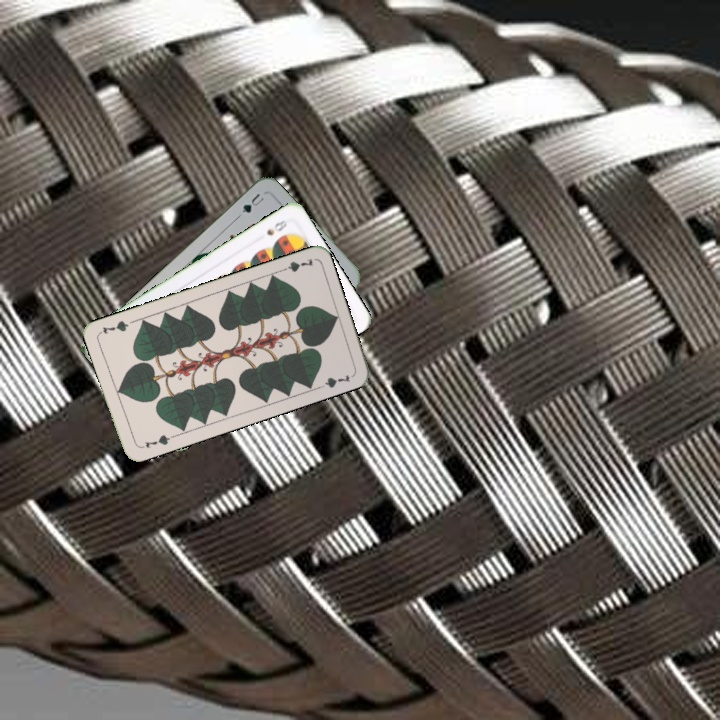G7: (276, 255, 316, 275), (141, 431, 176, 451)
GU: (233, 189, 267, 220)
S8: (262, 216, 290, 238)
